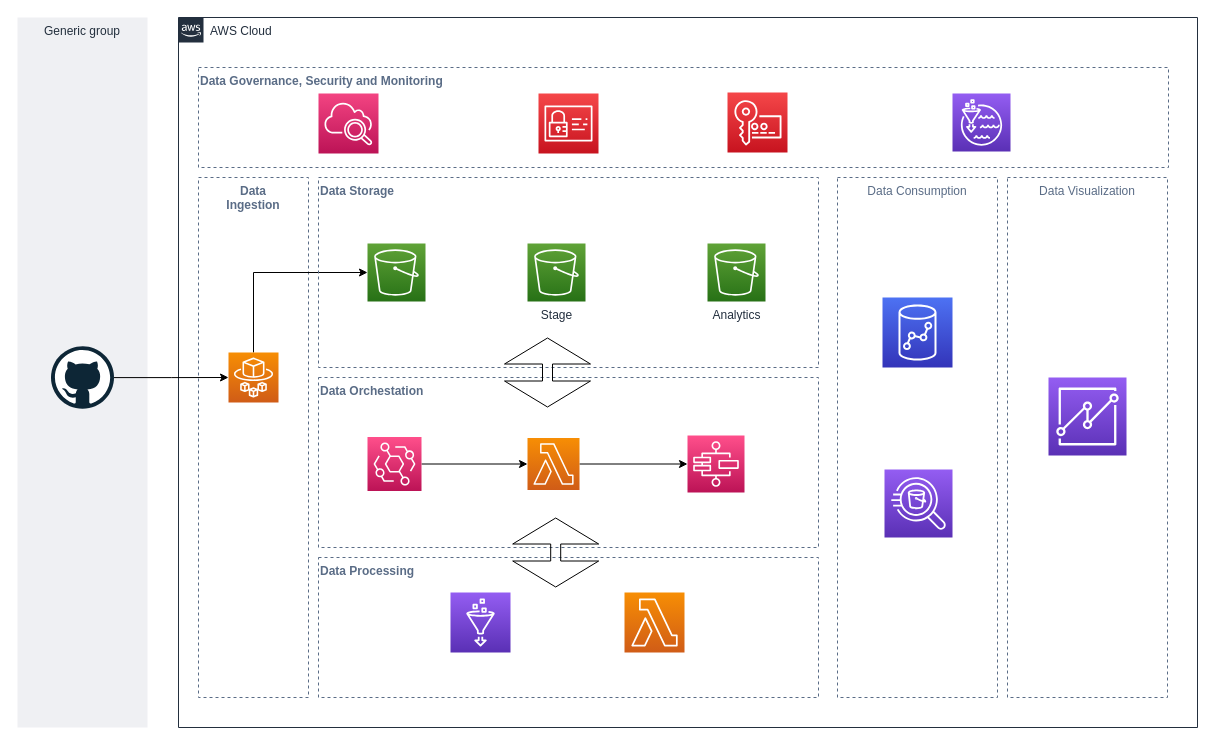
Some shapes in this 1215 by 745 pixel diagram are drawn without their labels. The shapes that lost their labels are listed below. From the top down, each one's centre as x and y in pixels, then its label:
At point 396,272: "Raw".
At point 917,332: "DataWarehouse".
At point 1087,416: "Quicksight".
At point 394,463: "Evento CRON".
At point 918,503: "Athena".
